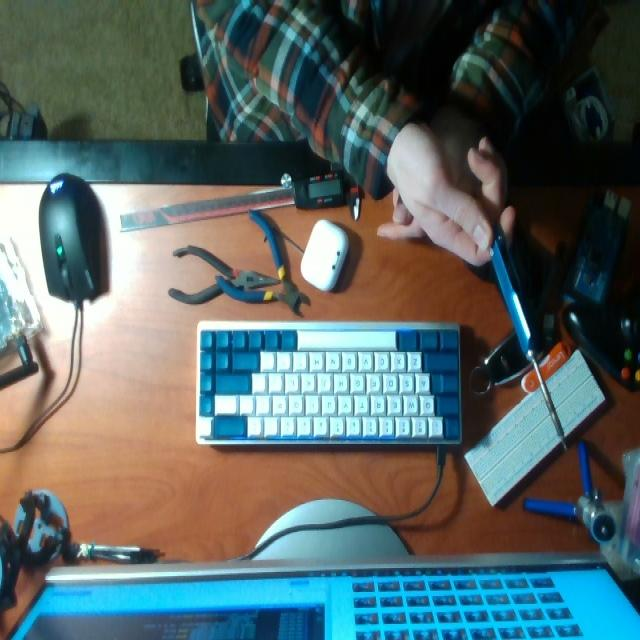keyboard: (193, 323, 461, 440)
